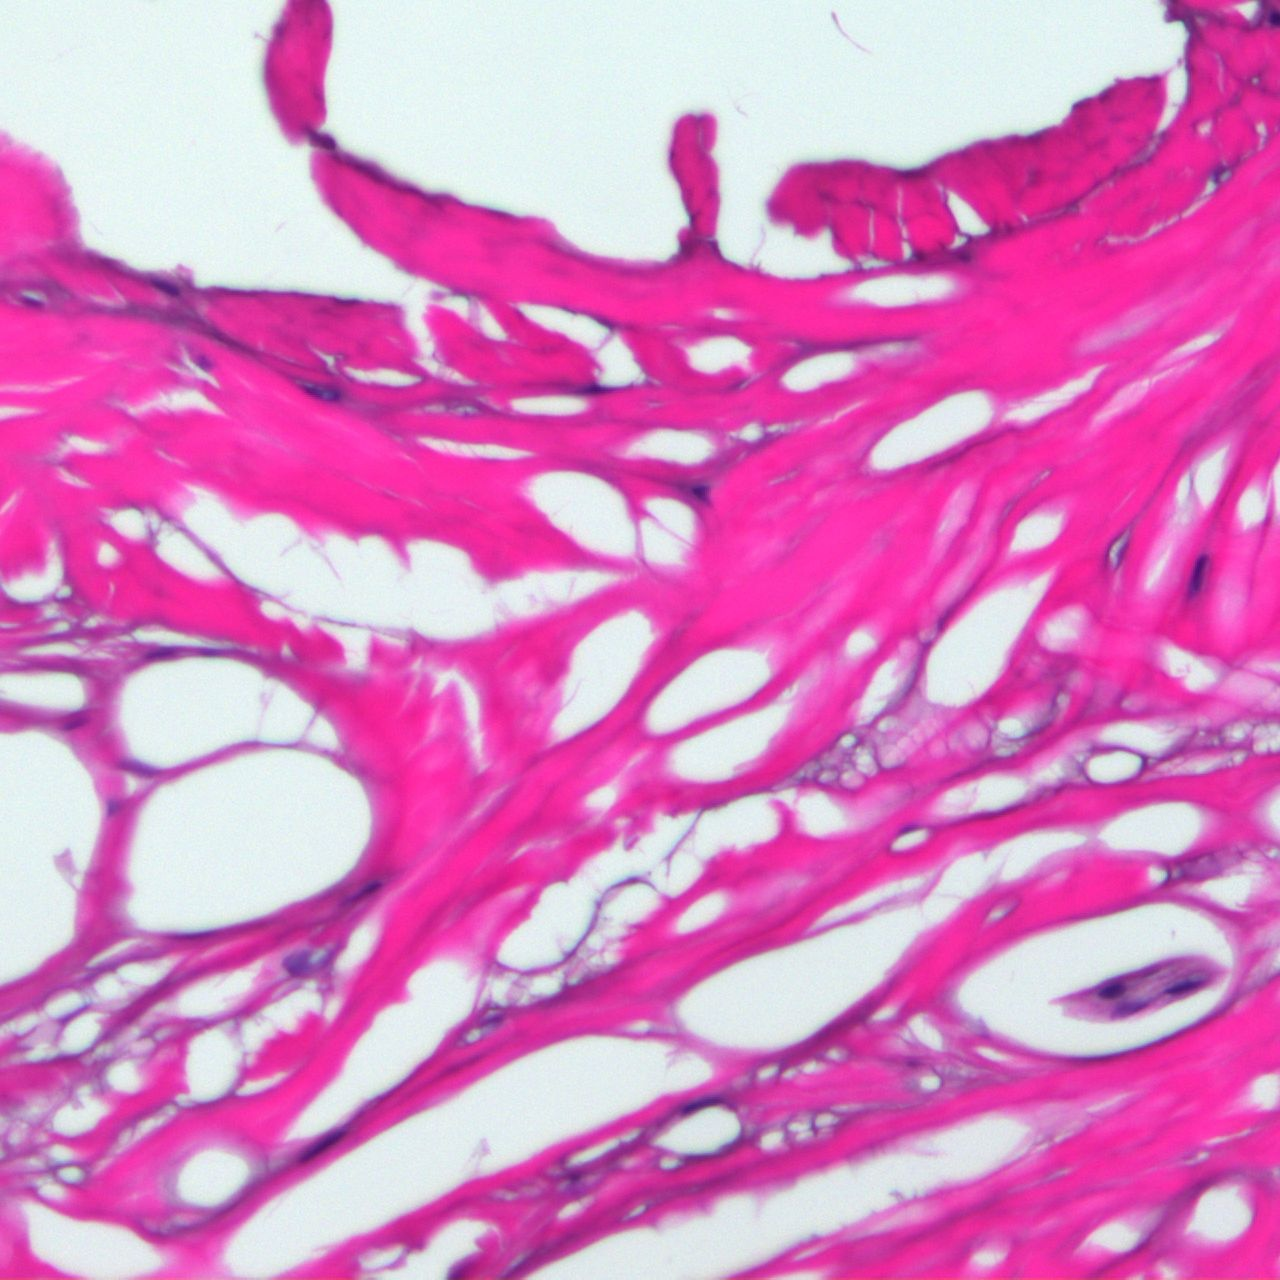nucleus-HE: (301, 1126, 345, 1162), (1184, 552, 1210, 595), (300, 379, 340, 406), (148, 274, 178, 298), (1164, 979, 1197, 996), (1097, 981, 1124, 1000), (145, 651, 166, 659), (912, 251, 925, 263), (1269, 11, 1280, 25), (693, 485, 704, 497), (107, 799, 116, 813), (200, 648, 217, 655)
